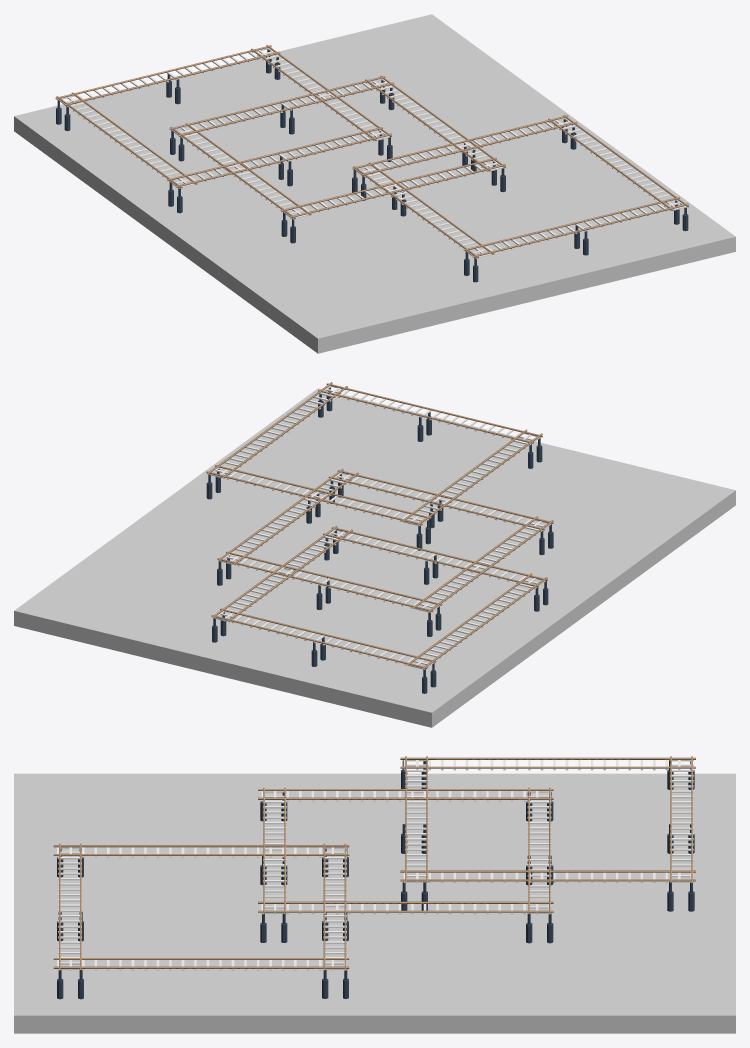
The model's file is RollerCoaster_019.fbx.
The picture shows the model from 3 angles, top to bottom: view 1: azimuth 30°, elevation 25°; view 2: azimuth 150°, elevation 25°; view 3: azimuth 270°, elevation 25°; orthographic projection. The views are drawn at different scales.
Parts seen in each view (by area): view 1: Cube, Columns.046, Path.106, Path.097, Path.105, Path.095, Path.101, Path.102, RailStep.097, RailStep.102, RailStep.105, RailStep.101 (+14 smaller); view 2: Cube, Columns.046, Path.106, Path.097, Path.101, Path.105, Path.102, Path.095, RailStep.097, RailStep.102, RailStep.098, RailStep.094 (+14 smaller); view 3: Cube, Columns.046, Path.099, Path.100, Path.096, RailStep.095, Path.104, RailStep.099, Path.103, Path.107, RailStep.093, RailStep.104 (+14 smaller).
Boxes of the visible parts, box(x1,y1,x2,y2) form: Cube: box(14, 14, 735, 353); Columns.046: box(56, 49, 688, 282); Path.106: box(463, 197, 688, 257); Path.097: box(55, 45, 280, 105); Path.105: box(352, 115, 577, 175); Path.095: box(167, 127, 391, 187); Path.101: box(169, 76, 394, 136); Path.102: box(280, 157, 505, 218); RailStep.097: box(58, 95, 195, 188); RailStep.102: box(549, 118, 686, 211); RailStep.105: box(358, 165, 492, 258); RailStep.101: box(175, 126, 309, 219); Cube: box(14, 388, 735, 727); Columns.046: box(206, 387, 553, 693); Path.106: box(318, 383, 542, 443); Path.097: box(211, 608, 436, 668); Path.101: box(217, 551, 442, 612); Path.105: box(206, 465, 431, 525); Path.102: box(328, 470, 553, 530); Path.095: box(323, 527, 547, 587); RailStep.097: box(408, 577, 541, 669); RailStep.102: box(210, 386, 346, 478); RailStep.098: box(221, 473, 357, 565); RailStep.094: box(214, 529, 351, 622); Cube: box(14, 773, 735, 1033); Columns.046: box(57, 760, 694, 999); Path.099: box(400, 757, 695, 768); Path.100: box(258, 901, 553, 912); Path.096: box(400, 870, 695, 881); RailStep.095: box(670, 760, 693, 882); Path.104: box(53, 958, 349, 968); RailStep.099: box(527, 791, 551, 913); Path.103: box(258, 789, 553, 799); Path.107: box(53, 845, 349, 855); RailStep.093: box(405, 760, 428, 882); RailStep.104: box(58, 847, 81, 969).
Bounding box in the file's own units: 5802 × 544 × 7308.
